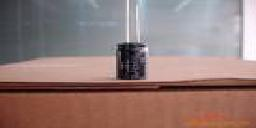Electrolytic-Capacitor: (113, 1, 149, 79)
